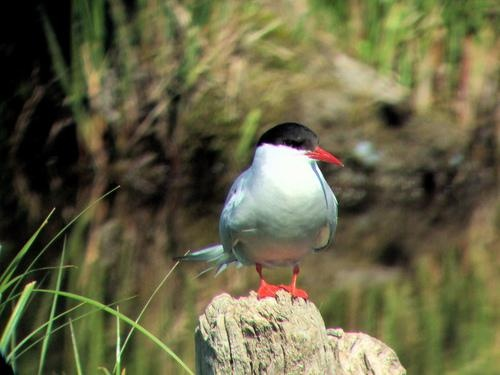bird: (170, 119, 348, 301)
